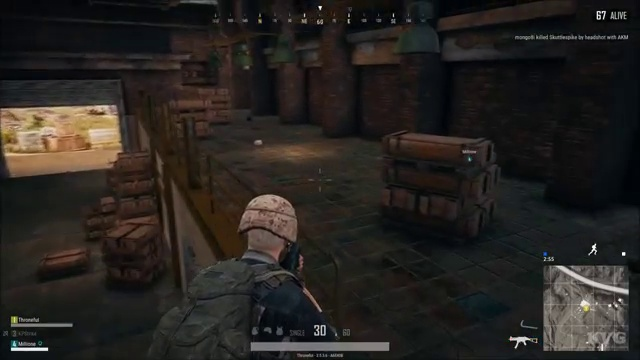Player: (158, 187, 370, 319)
